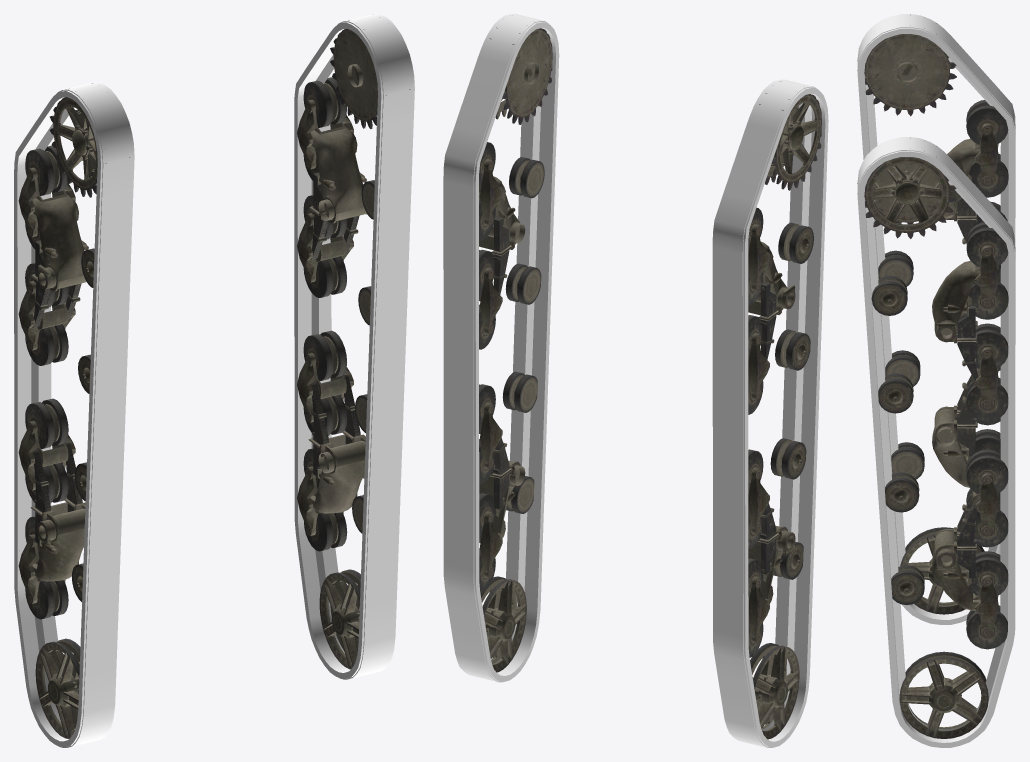
Rendered from Chassis.glb.
3 views of the same model, side by side, from view 1: azimuth 30°, elevation 25°; view 2: azimuth 150°, elevation 25°; view 3: azimuth 270°, elevation 25° (orthographic). The views are drawn at different scales.
Visible parts, largest first — view 1: set_1_group_0, set_0_group_0, set_3_group_0, set_2_group_0; view 2: set_1_group_0, set_0_group_0, set_3_group_0, set_2_group_0; view 3: set_3_group_0, set_2_group_0, set_0_group_0, set_1_group_0.
Part boxes in pixels (x1,y1,x2,y2): set_1_group_0: (14, 82, 134, 747); set_0_group_0: (294, 14, 414, 679); set_3_group_0: (297, 20, 410, 669); set_2_group_0: (18, 83, 129, 738); set_1_group_0: (712, 79, 828, 747); set_0_group_0: (443, 14, 559, 682); set_3_group_0: (479, 27, 552, 672); set_2_group_0: (748, 81, 821, 739); set_3_group_0: (857, 138, 1008, 738); set_2_group_0: (857, 15, 1008, 614); set_0_group_0: (857, 137, 1015, 747); set_1_group_0: (857, 14, 1015, 624).
Bounding box in the file's own units: 2.45 × 4.68 × 1.12.
Materials: 4 (2 with a texture image).
